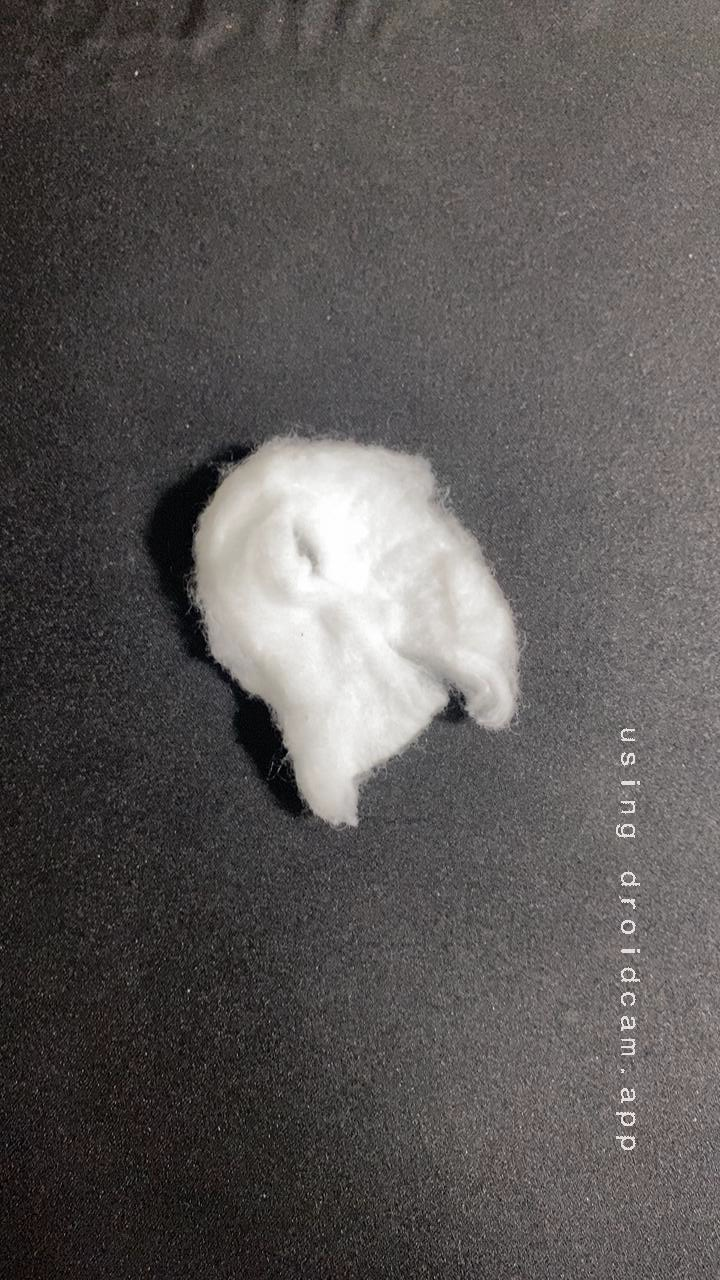cotton: (146, 415, 559, 863)
